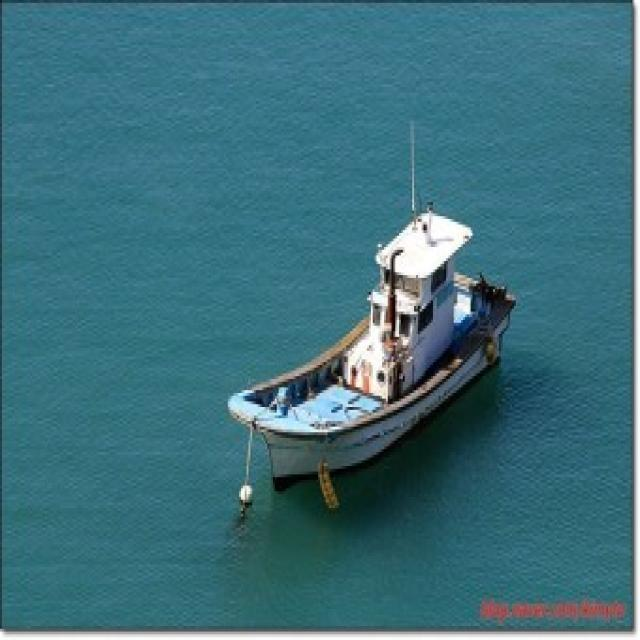Ship: (227, 195, 523, 529)
